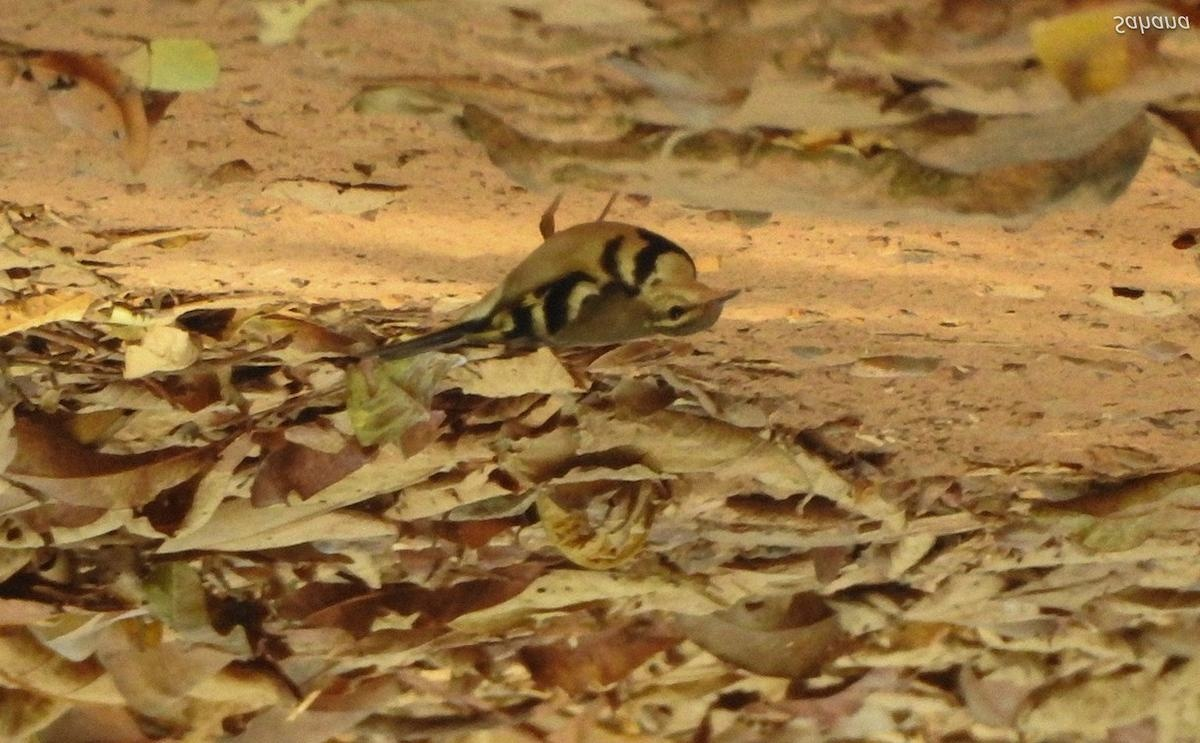wagtail: (425, 217, 744, 374)
